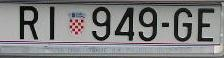-: (161, 22, 170, 29)
4: (114, 8, 135, 43)
9: (92, 6, 110, 41), (138, 7, 157, 40)
E: (197, 7, 214, 43)
G: (174, 8, 193, 43)
I: (49, 5, 56, 41)
R: (19, 5, 40, 42)
